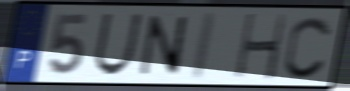5: (47, 11, 92, 76)
C: (282, 14, 334, 81)
H: (233, 12, 289, 82)
I: (187, 10, 220, 83)
N: (138, 13, 190, 78)
U: (91, 11, 145, 78)
